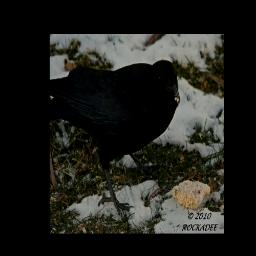Crow: (51, 59, 180, 216)
